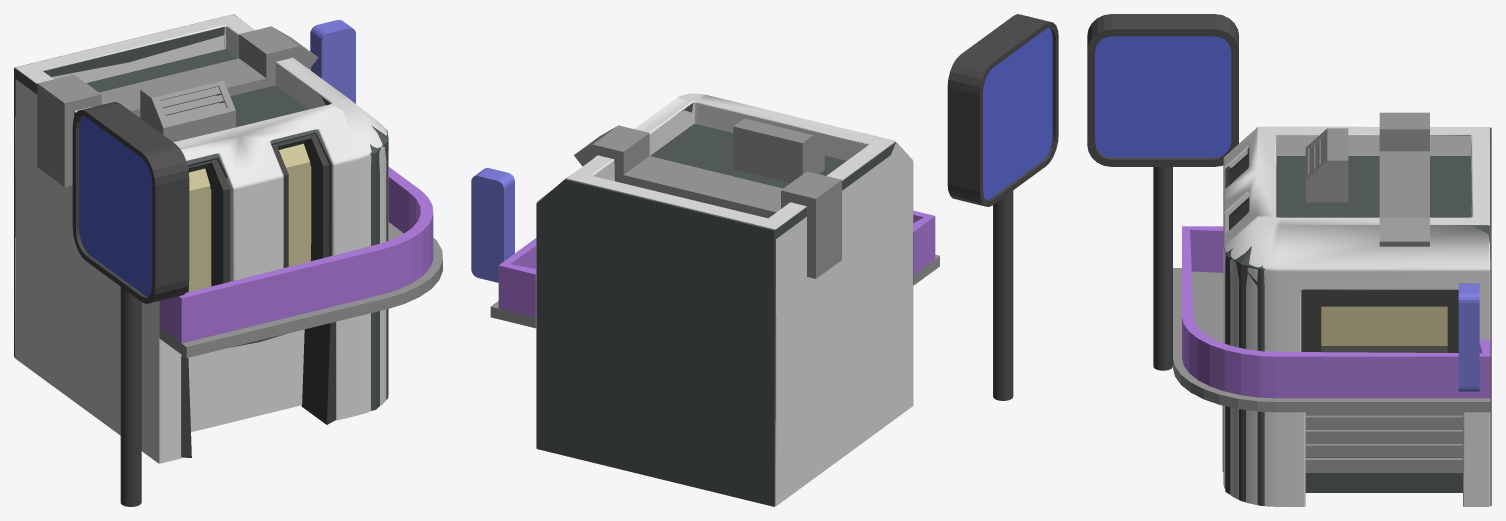
Rendered from дом_1.fbx.
3 views of the same model, side by side, from view 1: azimuth 30°, elevation 25°; view 2: azimuth 150°, elevation 25°; view 3: azimuth 270°, elevation 25° (orthographic). The views are drawn at different scales.
Visible parts, largest first — view 1: Plane, Circle, Plane.002, Куб, Plane.008, Plane.004, Plane.001, Plane.009, Plane.006, Cube; view 2: Куб, Plane, Circle, Plane.008, Plane.009, Cube, Plane.002, Plane.001; view 3: Plane, Circle, Куб, Plane.002, Plane.007, Plane.001, Plane.008, Plane.005, Plane.009, Cube, Plane.004.
Part boxes in pixels (bbox=[...]): Plane: bbox=[15, 14, 388, 463]; Circle: bbox=[72, 101, 189, 506]; Plane.002: bbox=[159, 167, 433, 343]; Куб: bbox=[14, 14, 388, 410]; Plane.008: bbox=[37, 26, 318, 186]; Plane.004: bbox=[186, 134, 329, 292]; Plane.001: bbox=[159, 222, 442, 358]; Plane.009: bbox=[140, 72, 235, 142]; Plane.006: bbox=[181, 322, 335, 457]; Cube: bbox=[310, 20, 355, 103]; Куб: bbox=[536, 103, 895, 506]; Plane: bbox=[536, 93, 913, 506]; Circle: bbox=[947, 14, 1058, 400]; Plane.008: bbox=[574, 125, 841, 278]; Plane.009: bbox=[733, 118, 824, 183]; Cube: bbox=[471, 168, 514, 282]; Plane.002: bbox=[498, 210, 935, 317]; Plane.001: bbox=[490, 254, 939, 328]; Plane: bbox=[1223, 126, 1490, 506]; Circle: bbox=[1087, 14, 1238, 370]; Куб: bbox=[1225, 127, 1491, 505]; Plane.002: bbox=[1182, 226, 1490, 398]; Plane.007: bbox=[1305, 412, 1462, 472]; Plane.001: bbox=[1173, 268, 1490, 412]; Plane.008: bbox=[1379, 112, 1429, 246]; Plane.005: bbox=[1302, 290, 1458, 352]; Plane.009: bbox=[1305, 128, 1348, 202]; Cube: bbox=[1458, 283, 1479, 391]; Plane.004: bbox=[1229, 154, 1249, 230].
Size of the model in its own units: 1.77 by 1.58 by 1.67.
